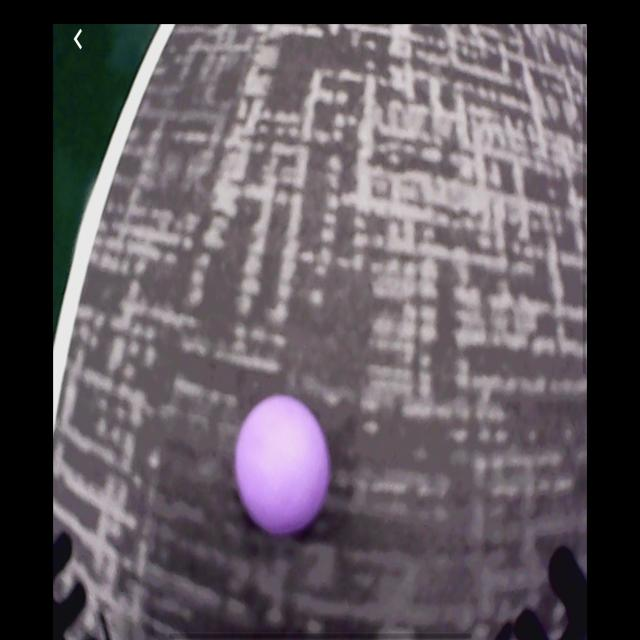ball: (235, 395, 328, 538)
